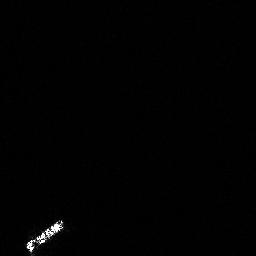ship: (24, 217, 64, 256)
